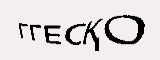А: (73, 17, 93, 38)
Р: (57, 14, 76, 39)
Х: (90, 21, 102, 41)
Э: (39, 14, 56, 39)
Я: (98, 22, 115, 46)
